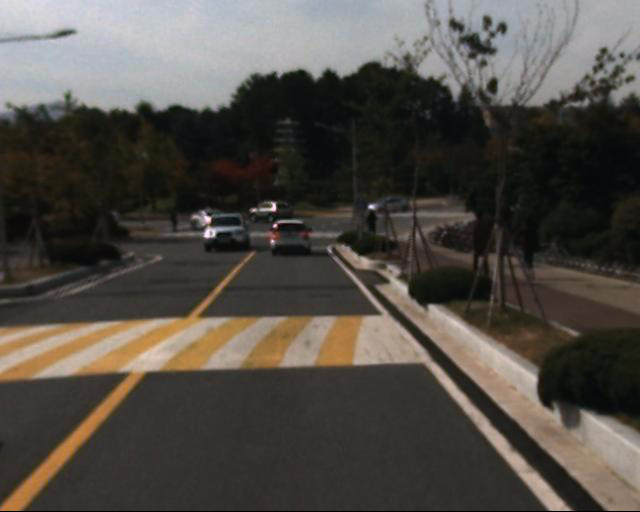person: (501, 197, 546, 286), (462, 197, 506, 287), (360, 203, 386, 250)
